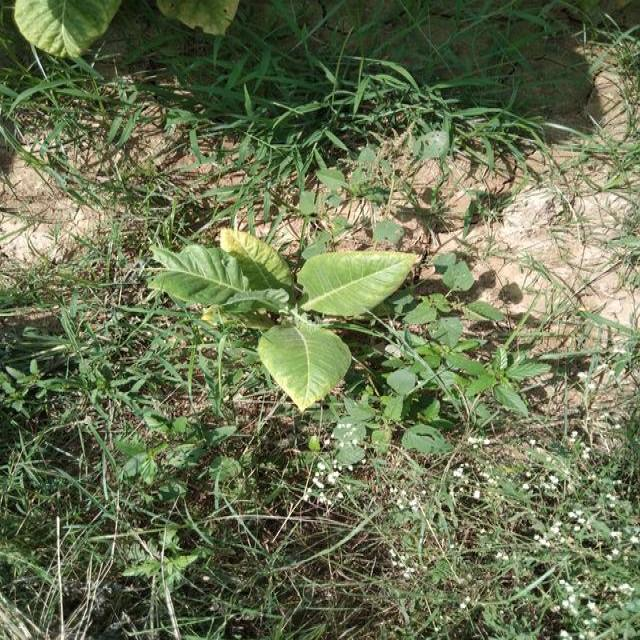crop: (157, 226, 412, 407), (20, 0, 240, 50)
